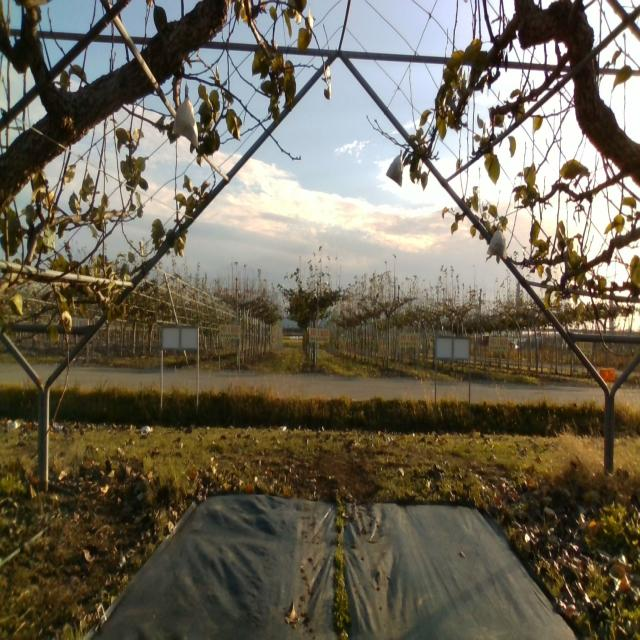pearbags: (170, 82, 200, 148), (486, 224, 508, 260), (387, 150, 403, 187)
